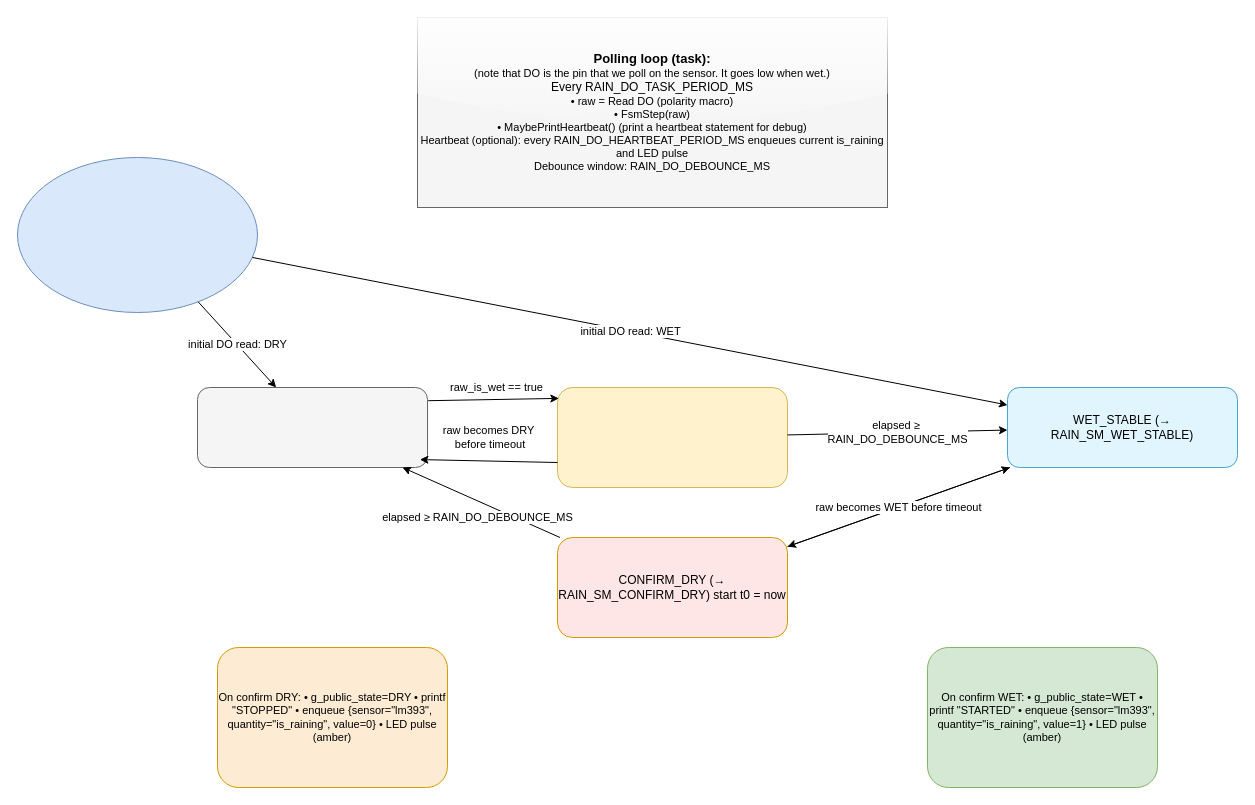
The diagram is 1255 pixels wide and 805 high, and some of its shapes have lost their labels. The shapes that lost their labels are listed below. From the top down, each one's centre as x and y in pixels, then its label:
(x=137, y=234): INIT entry: Read DO once set g_sm_state, g_public_state set timers
(x=312, y=427): DRY_STABLE (→ RAIN_SM_DRY_STABLE)
(x=672, y=437): CONFIRM_WET (→ RAIN_SM_CONFIRM_WET) start t0 = now
